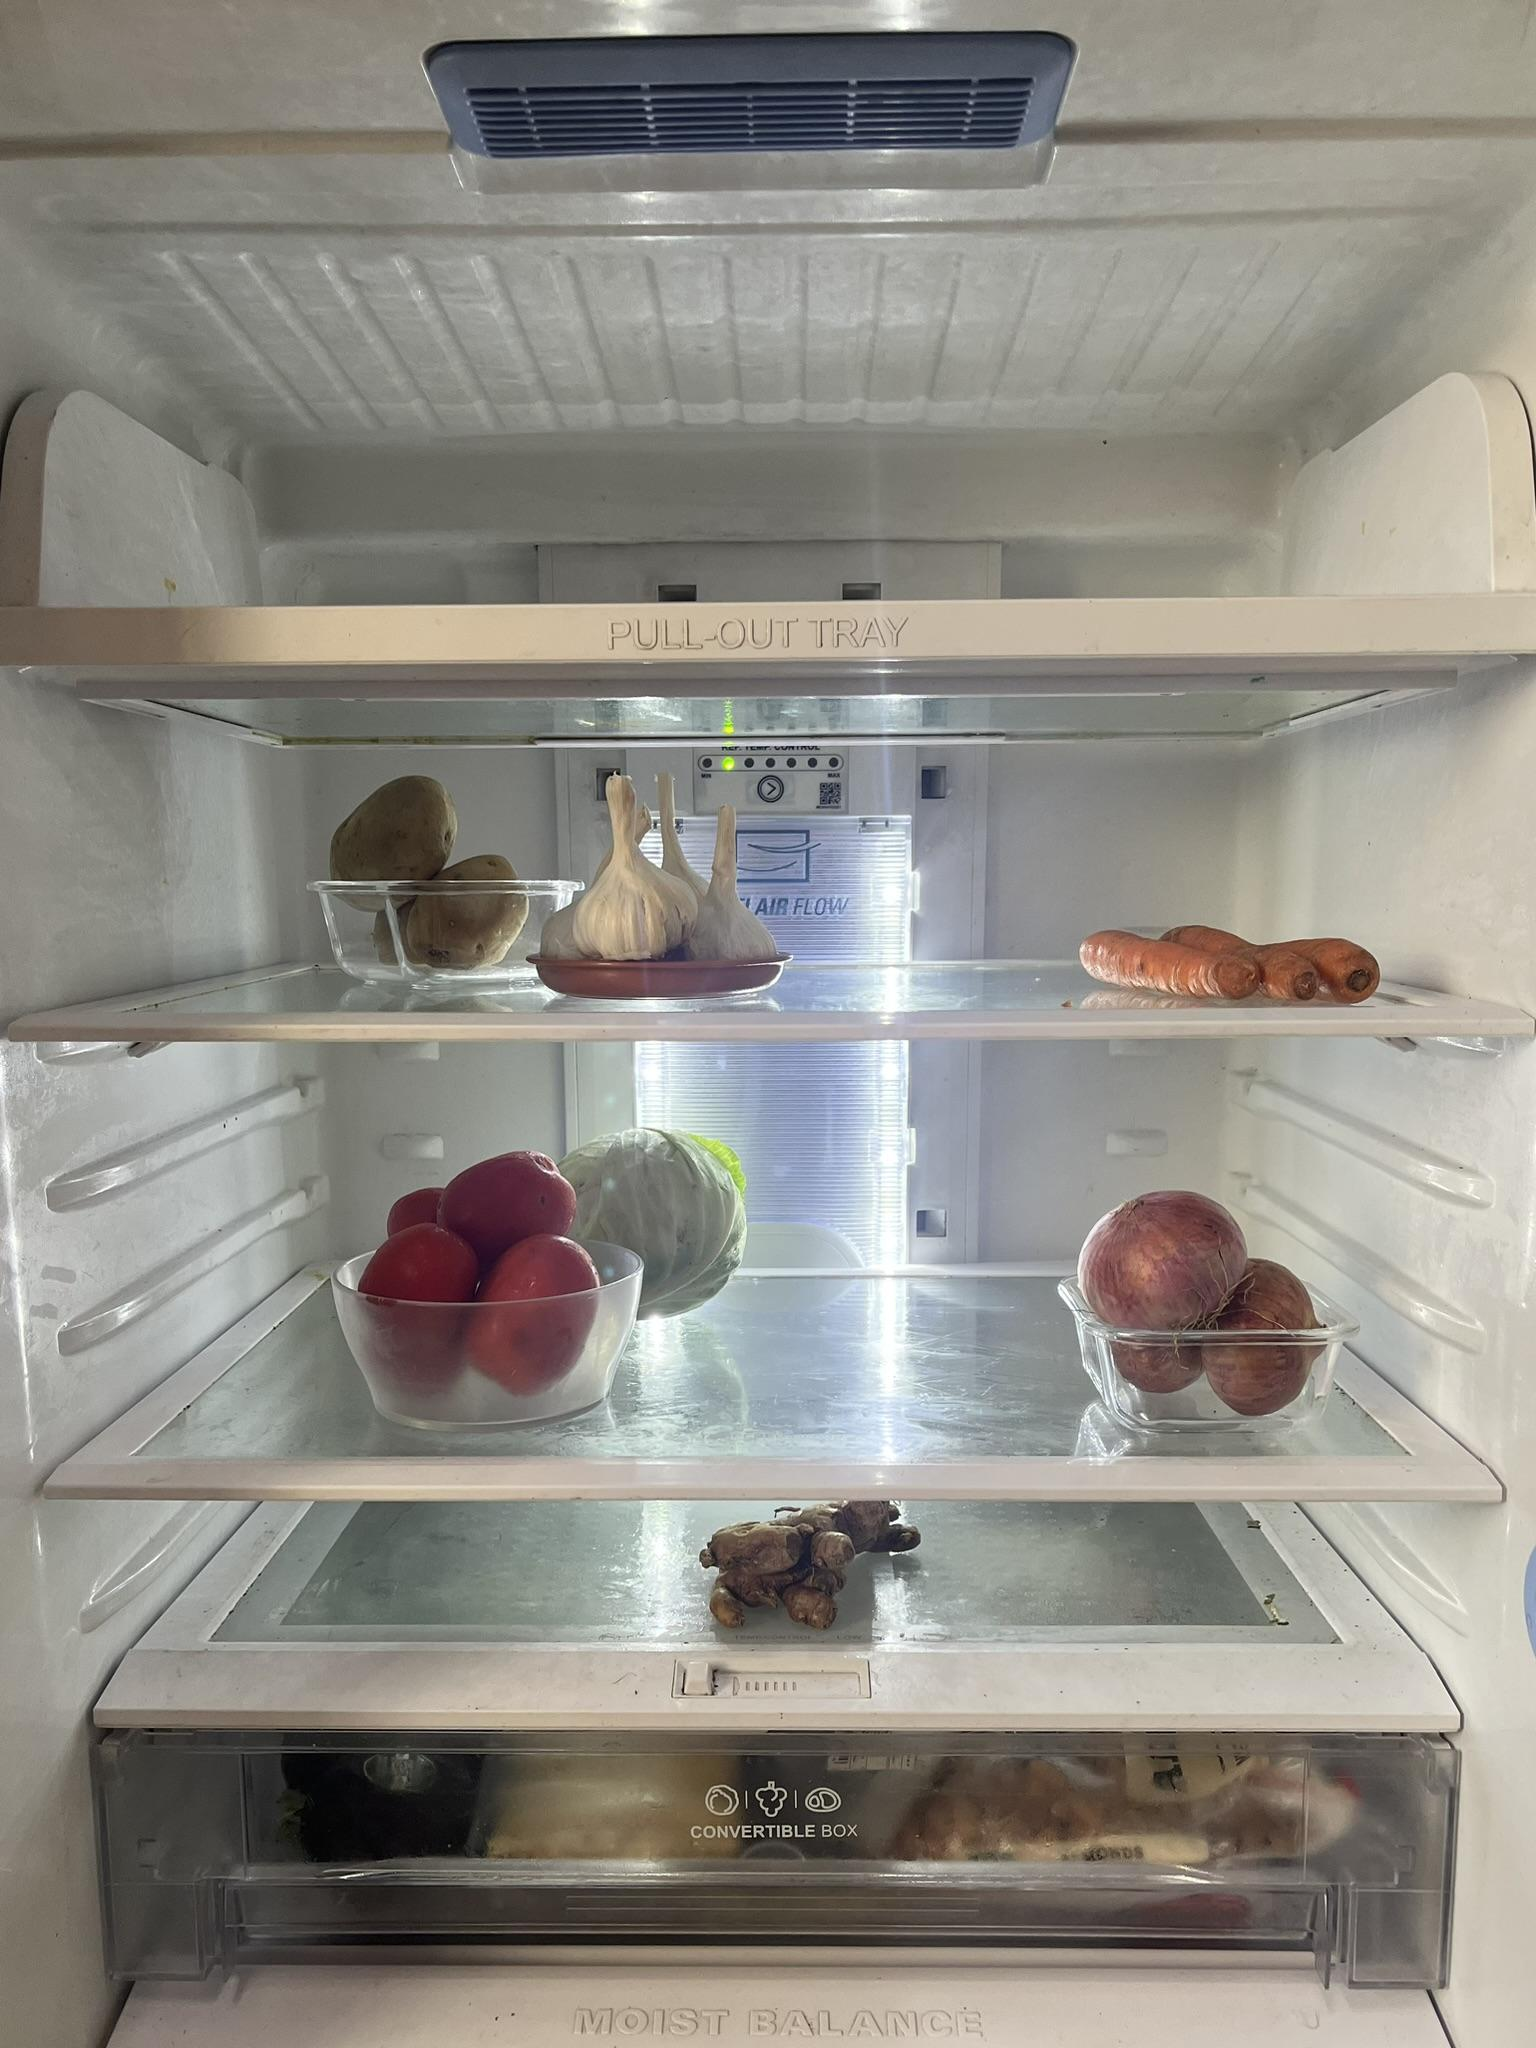cabbage: (573, 1122, 752, 1313)
carrots: (1084, 922, 1379, 998)
garlic: (547, 768, 774, 959)
ginger: (700, 1493, 925, 1632)
onion: (1079, 1185, 1320, 1417)
potato: (332, 772, 532, 977)
tomato: (350, 1142, 597, 1393)
